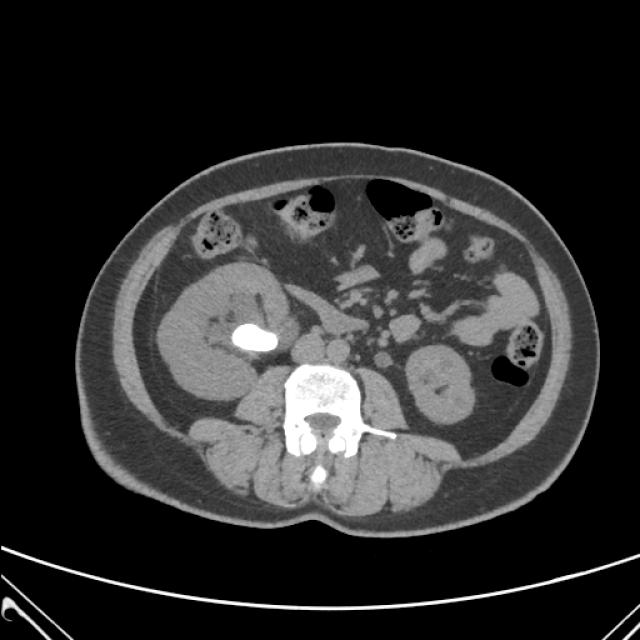kidney: (401, 339, 480, 424), (208, 298, 292, 368)
stone: (230, 318, 278, 352)
